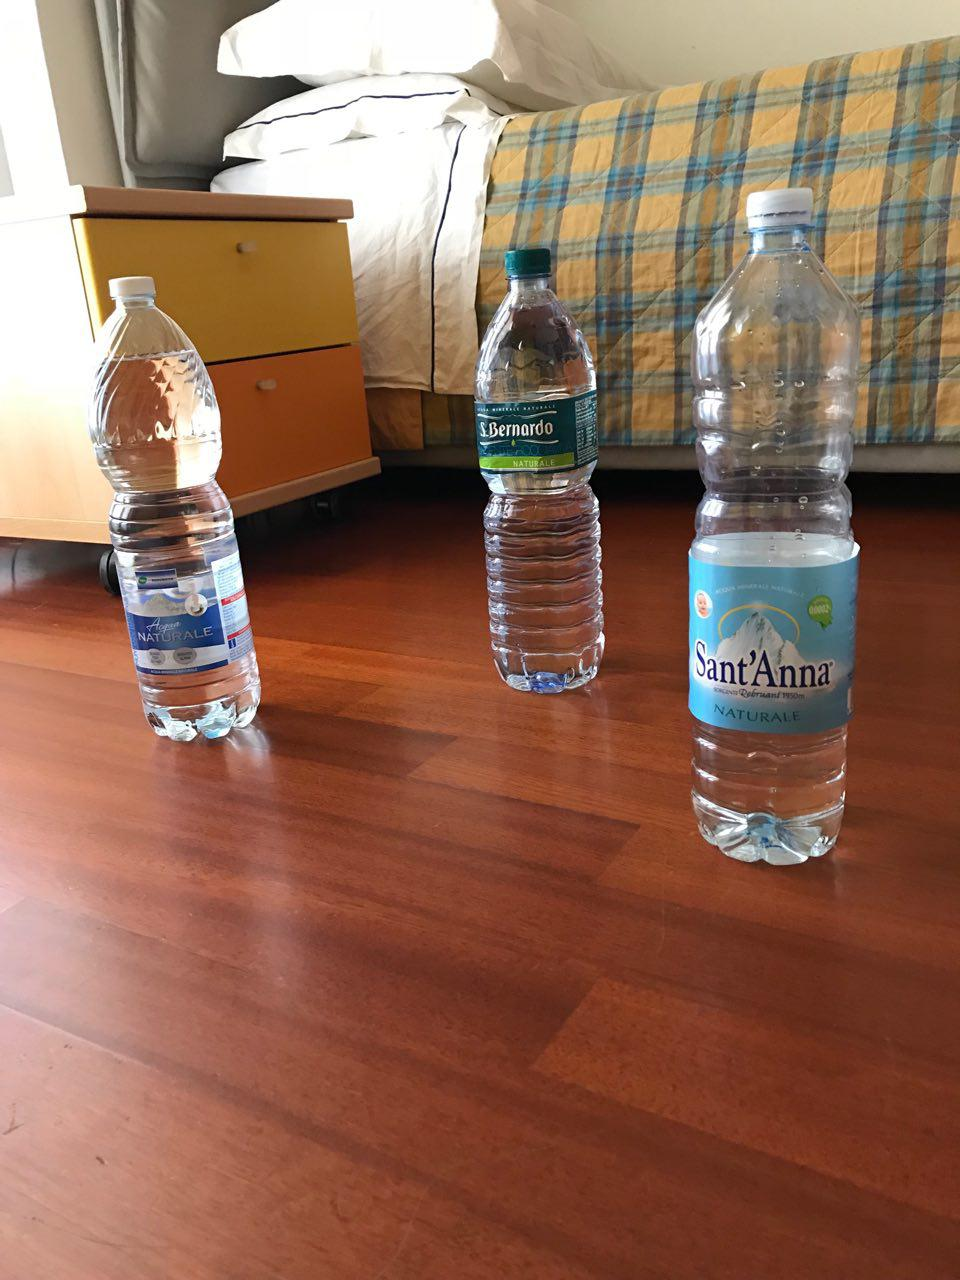san_bernardo: (473, 246, 604, 694)
